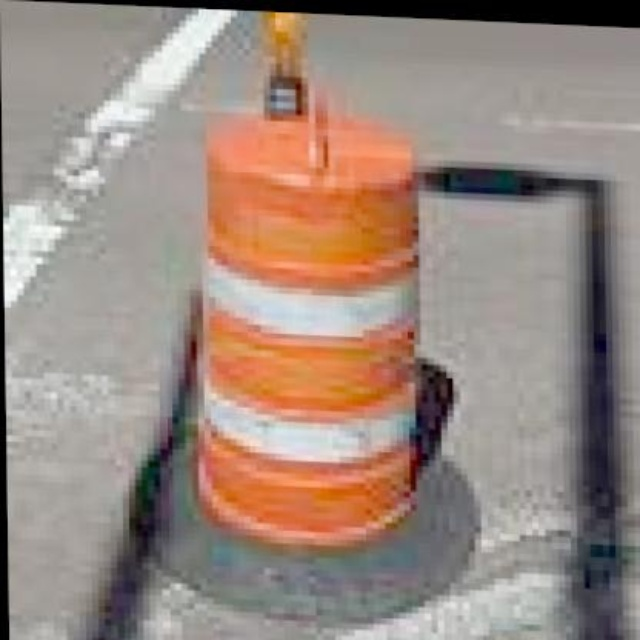obstacle: (193, 103, 422, 558)
